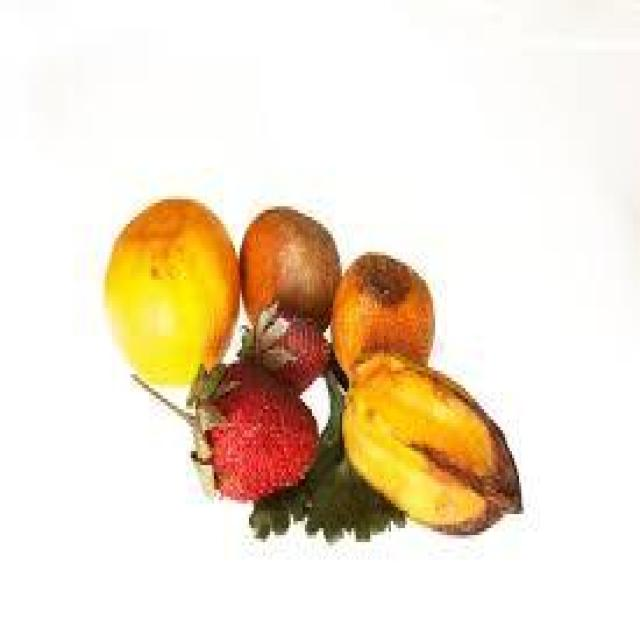organic: (102, 199, 524, 539)
